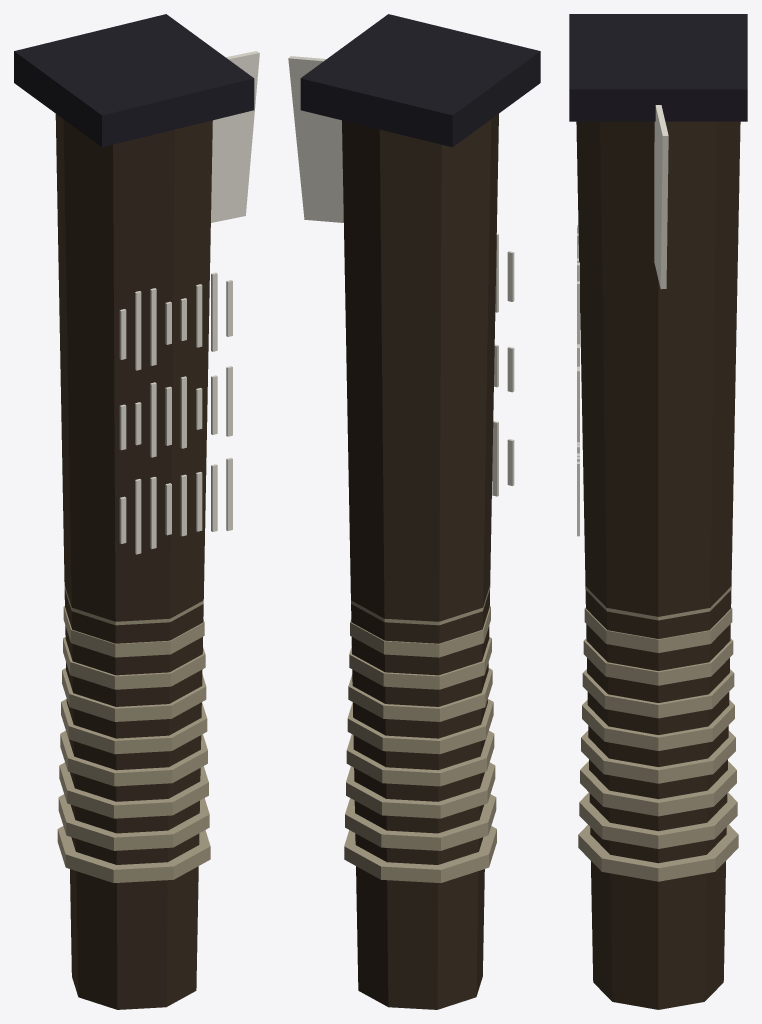
The model's file is s2_ferry_post.glb.
3 views of the same model, side by side, from view 1: azimuth 30°, elevation 25°; view 2: azimuth 150°, elevation 25°; view 3: azimuth 270°, elevation 25° (orthographic).
Visible parts, largest first — view 1: s2_ferry_post; view 2: s2_ferry_post; view 3: s2_ferry_post.
Boxes of the visible parts, <box> form: s2_ferry_post: <box>14,14,259,1009</box>; s2_ferry_post: <box>288,14,540,1009</box>; s2_ferry_post: <box>569,14,747,1009</box>.
Bounding box in the file's own units: 0.8038 × 3.46 × 0.6.
